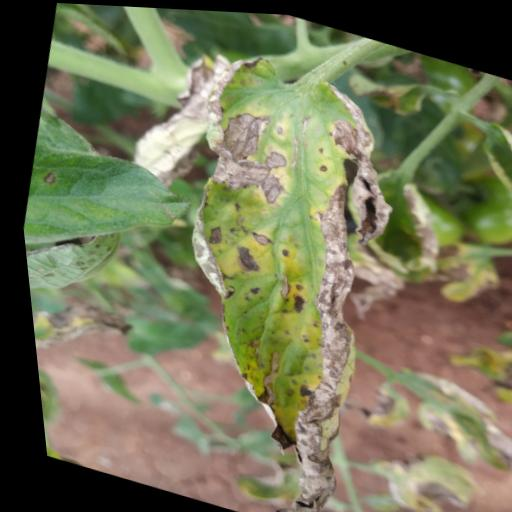Early Blight: (104, 36, 441, 512)
